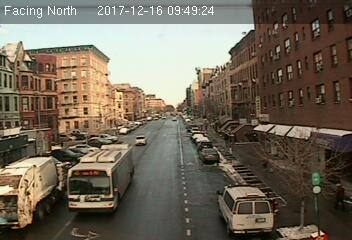bus: (67, 142, 134, 217)
car: (198, 148, 219, 163), (133, 136, 148, 144)
police: (216, 181, 275, 234)
truck: (1, 155, 71, 229)
